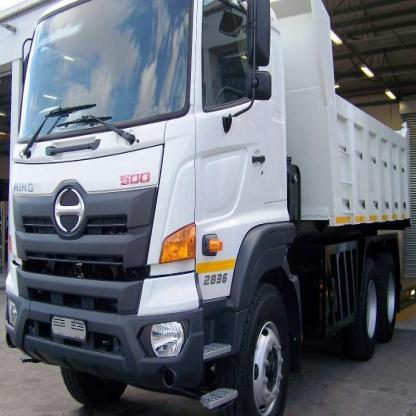dump_truck: (8, 4, 415, 413)
